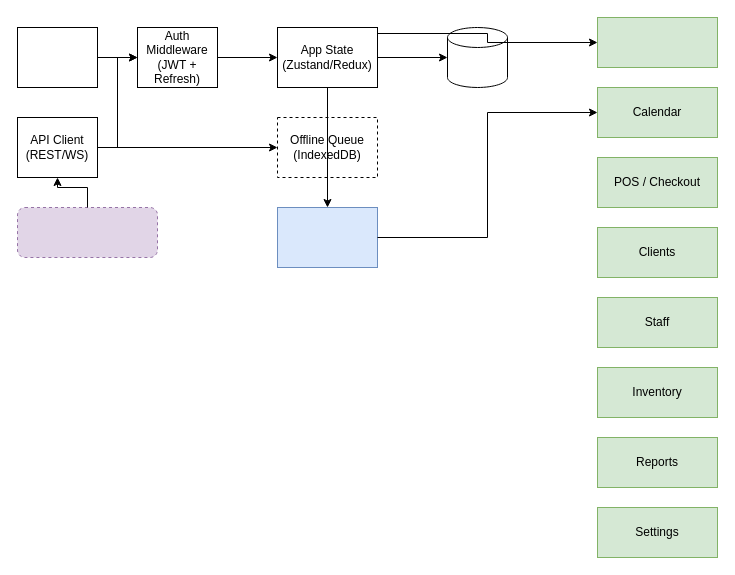
This 735x575 diagram has some shape labels left out. The shapes that lost their labels are listed below. From the top down, each one's box as (x1, y1, x2, y2) in pixels, then its label:
(16, 26, 98, 88): WebSocket Connection
(446, 26, 508, 88): SQLite (Local)
(596, 16, 718, 68): Dashboard
(16, 206, 158, 258): PWA Service Worker (Offline Shell + Sync)
(276, 206, 378, 268): Router (React Router)
